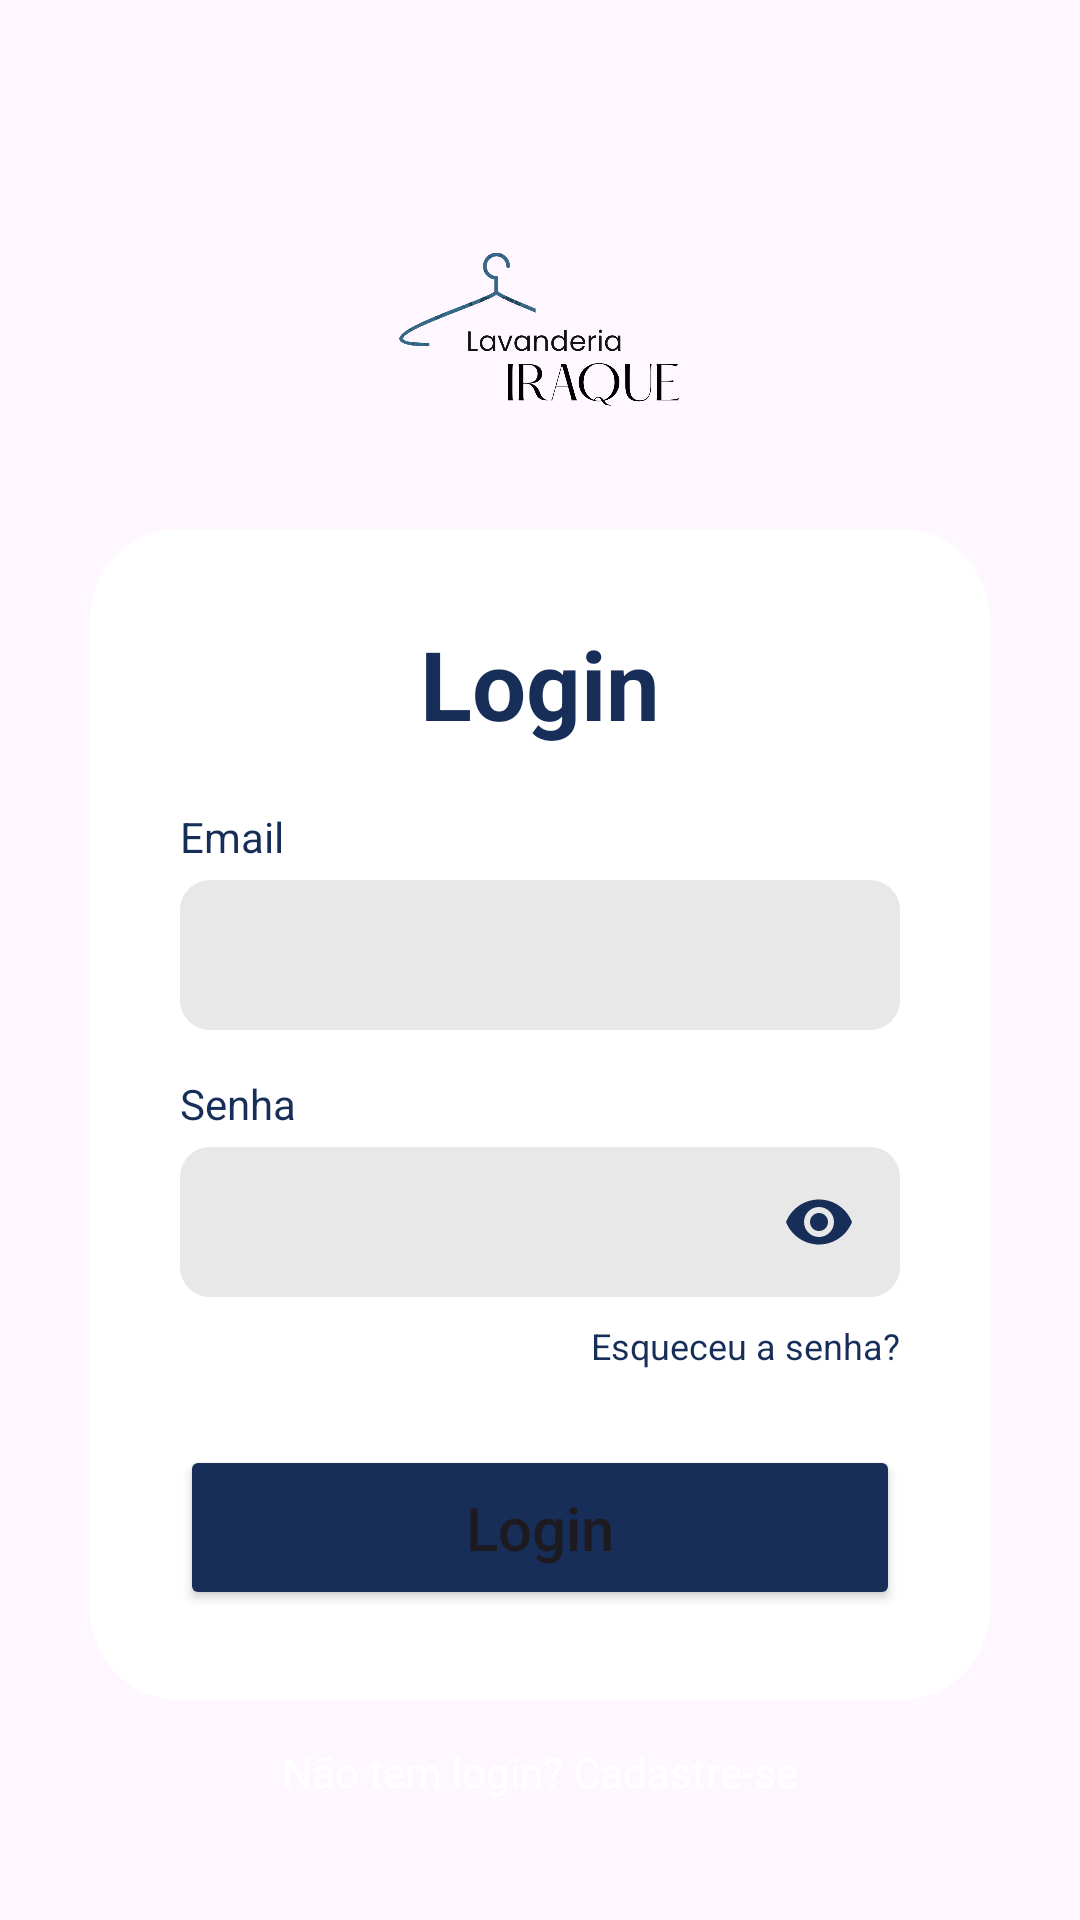

Icon click points for this 1080x1920 phone screenshot, format [x,y]:
visibility eye: [819,1222]
